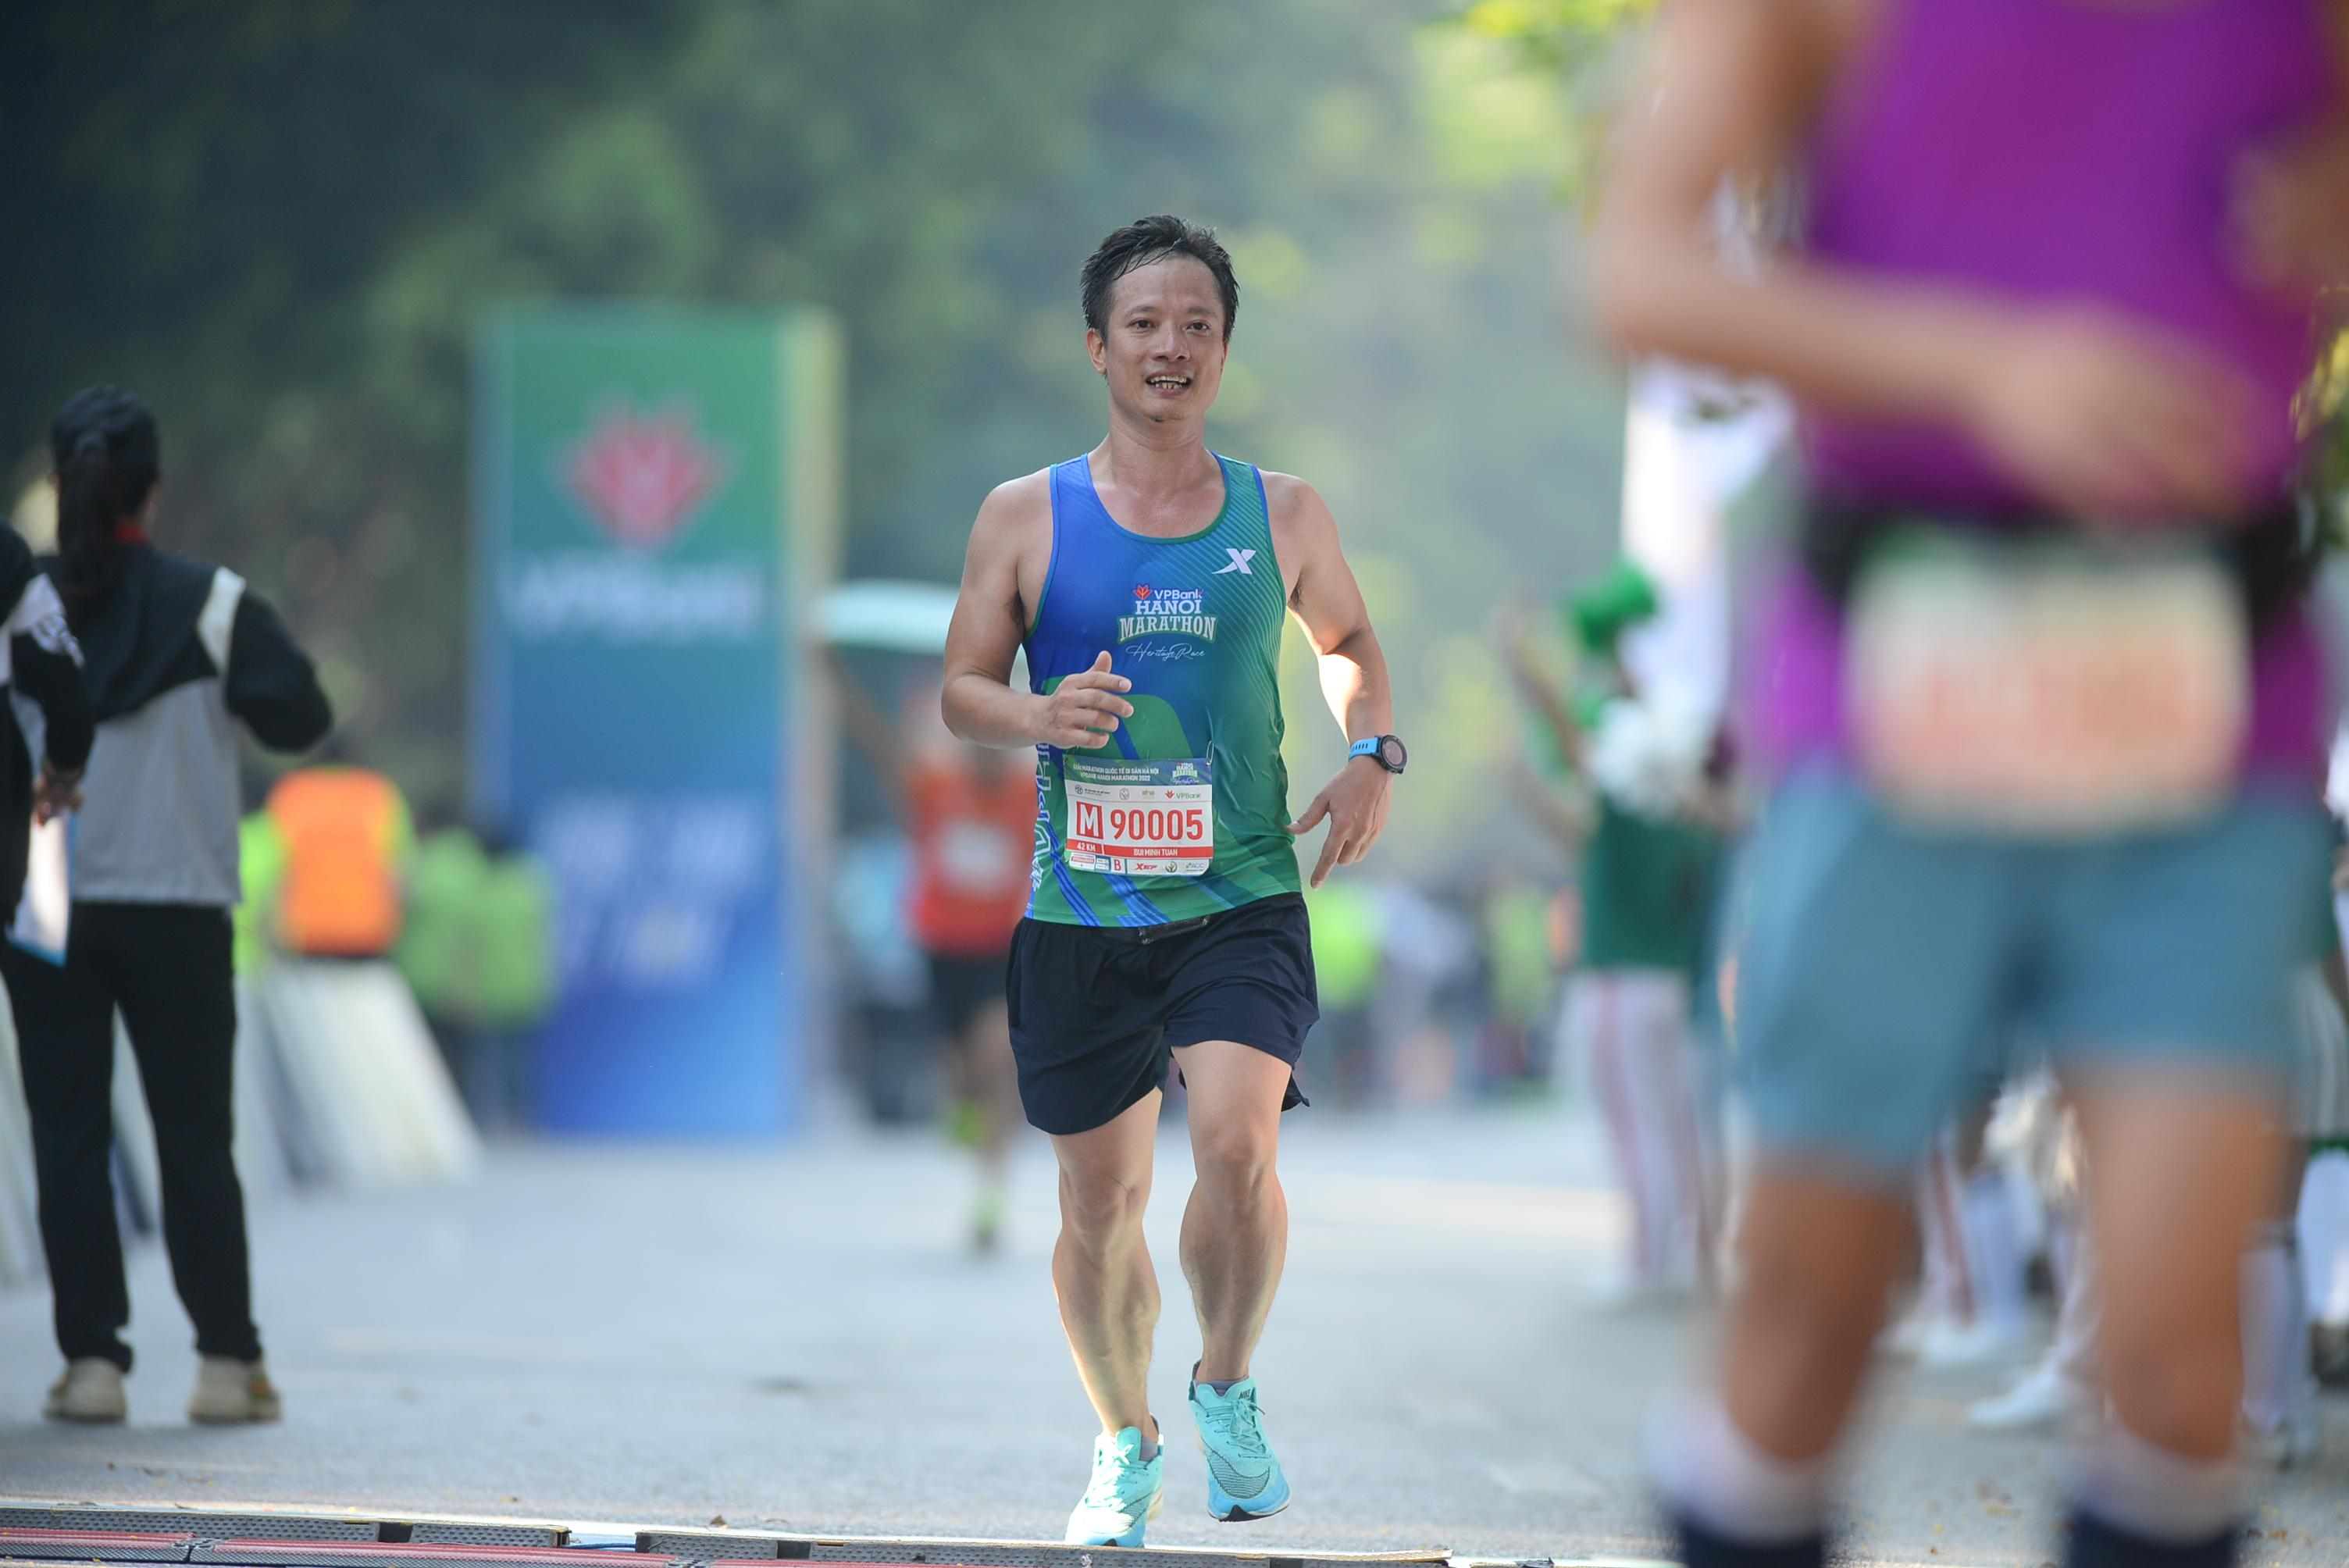bib: (1850, 530, 2246, 835), (1059, 751, 1213, 880)
